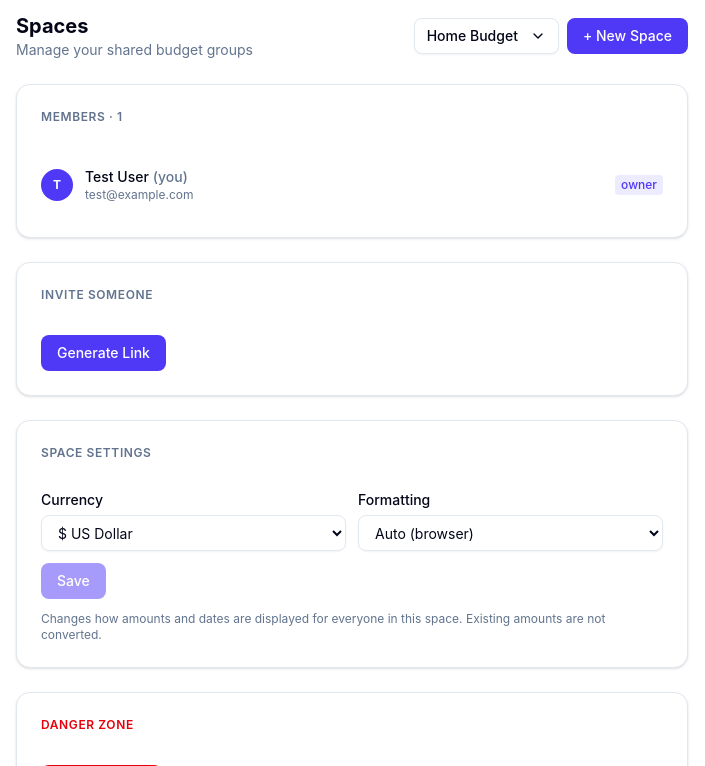
Scenario: SpacesPage › switching spaces shows the new space and renders each section exactly once
The width and height of the screenshot is (705, 766).
Click the button with aria-label "switch space". click: (486, 36)
box: [414,18,559,54]
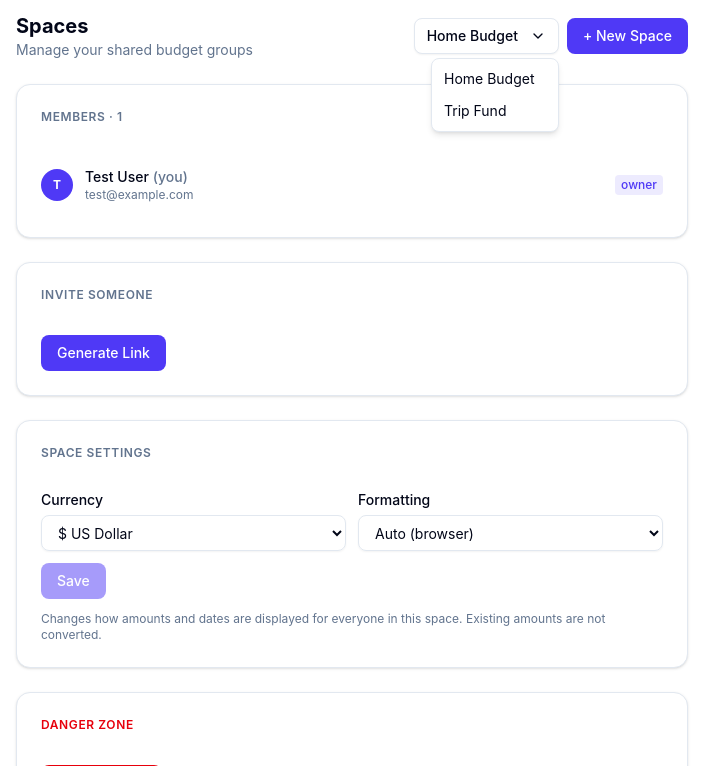
Click the menu item "Trip Fund". click: (475, 110)
box: [444,102,506,119]
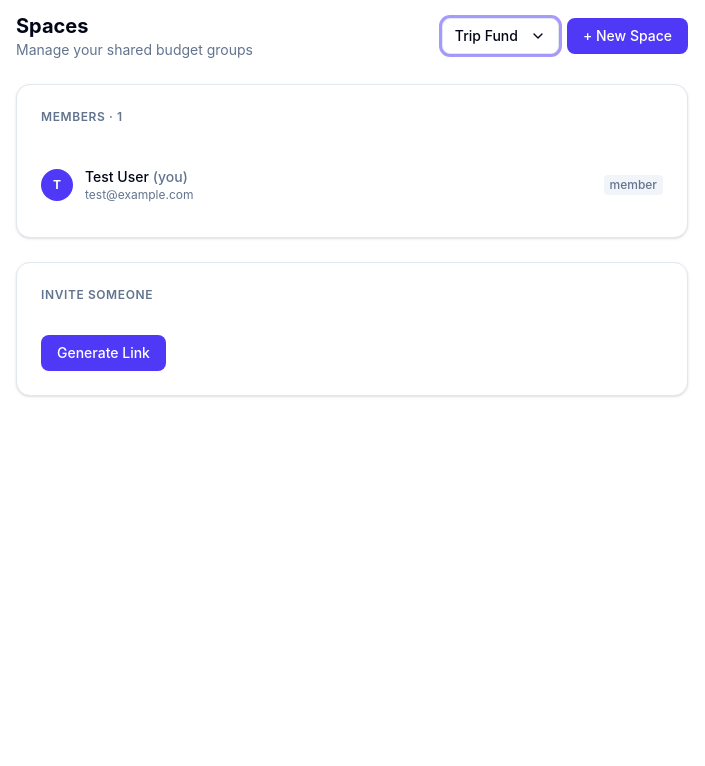
expect the text "Invite Someone" is shown once: met, box [41,287,153,302]
expect the button "Trip Fund" is shown: met, box [442,18,559,54]
expect the button "Home Budget" is gone: met
